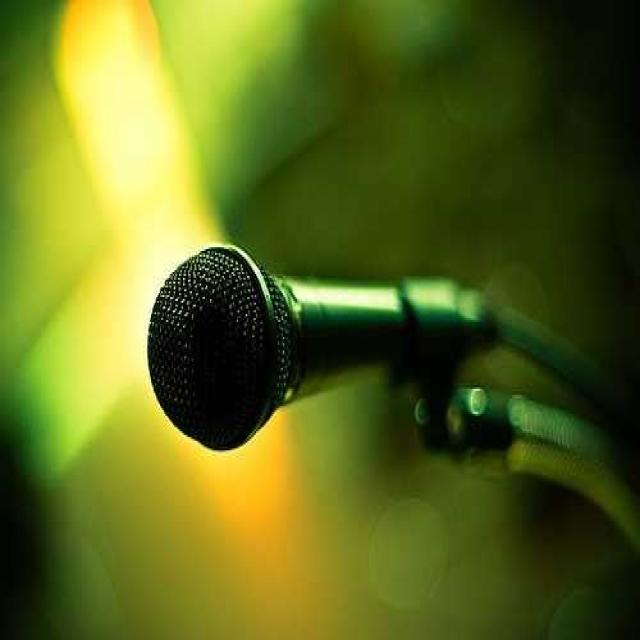microphone: (143, 242, 480, 456)
